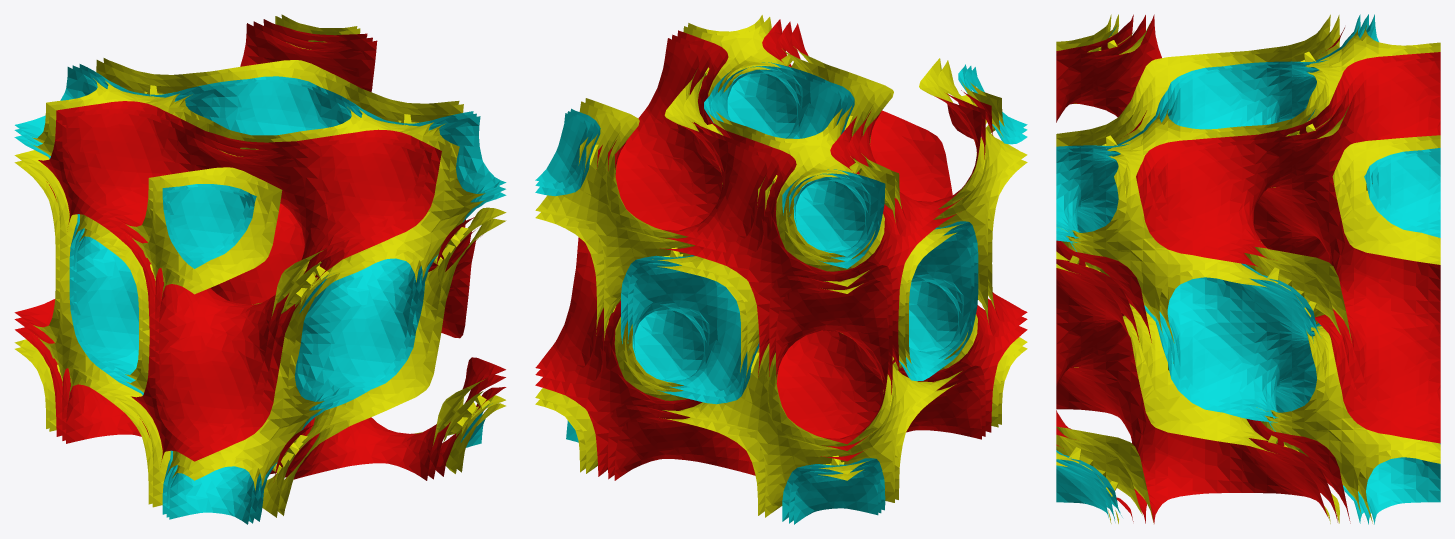
The model's file is diamond_test.glb.
The picture shows the model from 3 angles, left to right: view 1: azimuth 30°, elevation 25°; view 2: azimuth 150°, elevation 25°; view 3: azimuth 270°, elevation 25°; orthographic projection. The views are drawn at different scales.
Parts seen in each view (by area): view 1: iso_0.75_channel_0, iso_0.50_channel_2, iso_0.75_channel_1, iso_0.25_channel_2, iso_0.25_channel_0, iso_0.50_channel_0, iso_0.25_channel_1, iso_0.50_channel_1; view 2: iso_0.75_channel_0, iso_0.50_channel_2, iso_0.75_channel_1, iso_0.25_channel_0, iso_0.25_channel_2, iso_0.50_channel_0, iso_0.25_channel_1, iso_0.50_channel_1; view 3: iso_0.75_channel_0, iso_0.75_channel_1, iso_0.50_channel_2, iso_0.25_channel_2, iso_0.25_channel_0, iso_0.50_channel_0, iso_0.25_channel_1, iso_0.50_channel_1.
Boxes of the visible parts, x1,y1,x2,y2 form: iso_0.75_channel_0: (14,23,505,480); iso_0.50_channel_2: (14,16,506,517); iso_0.75_channel_1: (15,67,506,524); iso_0.25_channel_2: (14,14,506,515); iso_0.25_channel_0: (15,19,506,479); iso_0.50_channel_0: (14,21,505,479); iso_0.25_channel_1: (14,64,506,521); iso_0.50_channel_1: (14,65,505,523); iso_0.75_channel_0: (535,23,1027,480); iso_0.50_channel_2: (535,17,1027,517); iso_0.75_channel_1: (535,67,1027,524); iso_0.25_channel_0: (535,19,1027,476); iso_0.25_channel_2: (535,15,1027,515); iso_0.50_channel_0: (535,21,1027,479); iso_0.25_channel_1: (535,62,1027,521); iso_0.50_channel_1: (535,66,1027,523); iso_0.75_channel_0: (1056,14,1440,523); iso_0.75_channel_1: (1056,14,1440,524); iso_0.50_channel_2: (1056,14,1440,523); iso_0.25_channel_2: (1056,14,1440,523); iso_0.25_channel_0: (1056,14,1440,523); iso_0.50_channel_0: (1056,15,1440,523); iso_0.25_channel_1: (1056,14,1440,523); iso_0.50_channel_1: (1056,14,1440,524).
Bounding box in the file's own units: 31 × 31 × 31.
